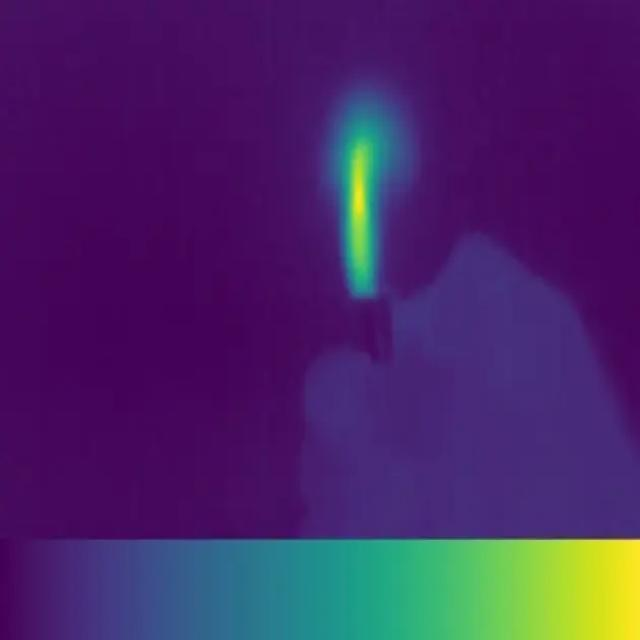fire: (341, 110, 393, 302)
